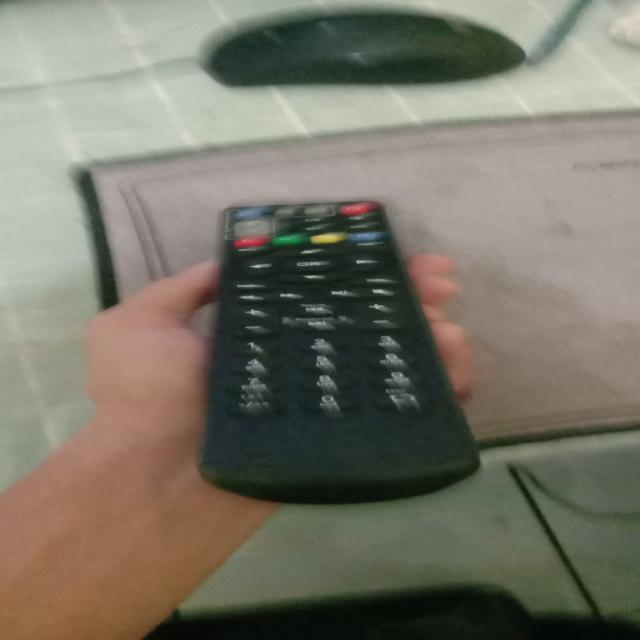remote: (200, 200, 495, 488)
